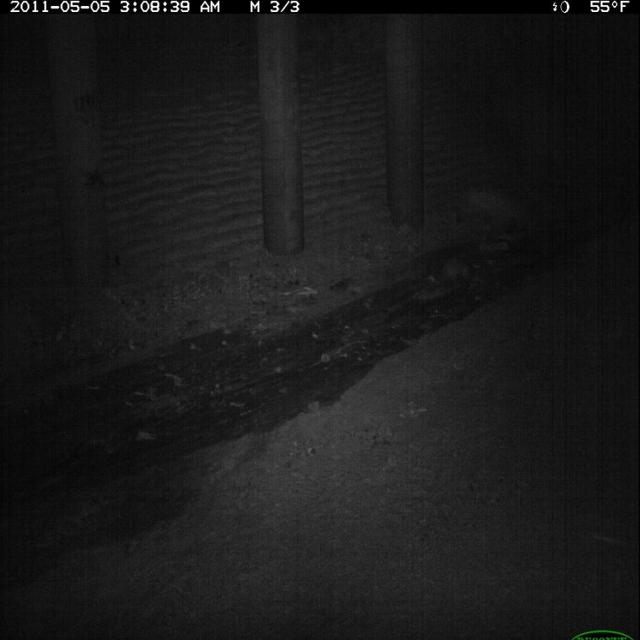opossum: (424, 254, 473, 292)
